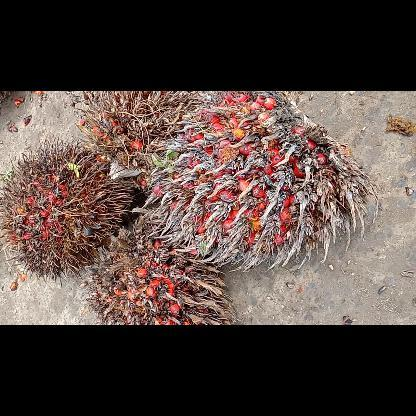Terlalu masak: (144, 90, 382, 274), (0, 138, 136, 280), (84, 222, 242, 324), (72, 91, 214, 197)
